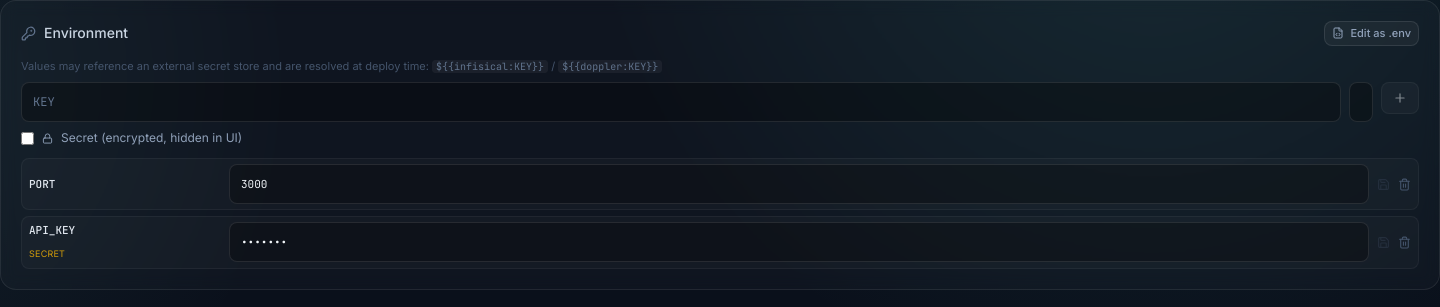
EnvCard › treats a cleared draft as a real edit (value can be blanked)
The width and height of the screenshot is (1440, 307).
Expected: the text "PORT" is shown, [29, 177, 55, 191]
Clear the field showing "3000": (799, 184) [229, 164, 1369, 204]
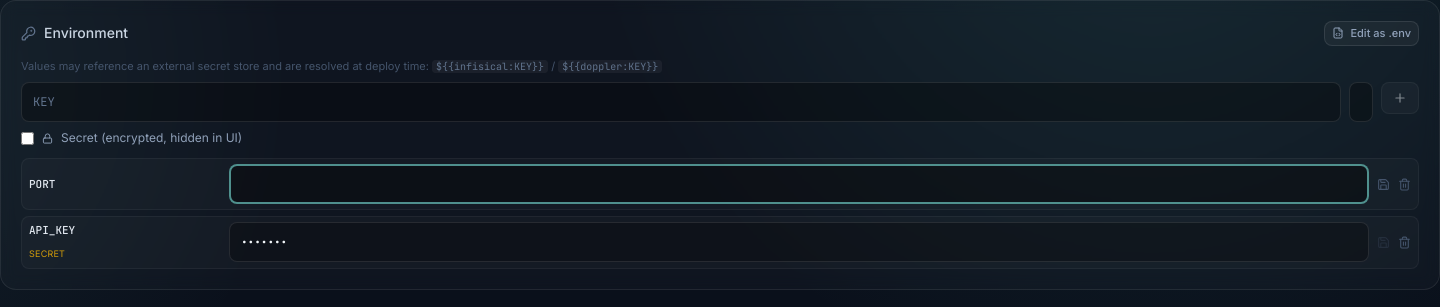
Expected: the button titled "Save" in the row of "PORT" is enabled, [1377, 178, 1390, 190]
